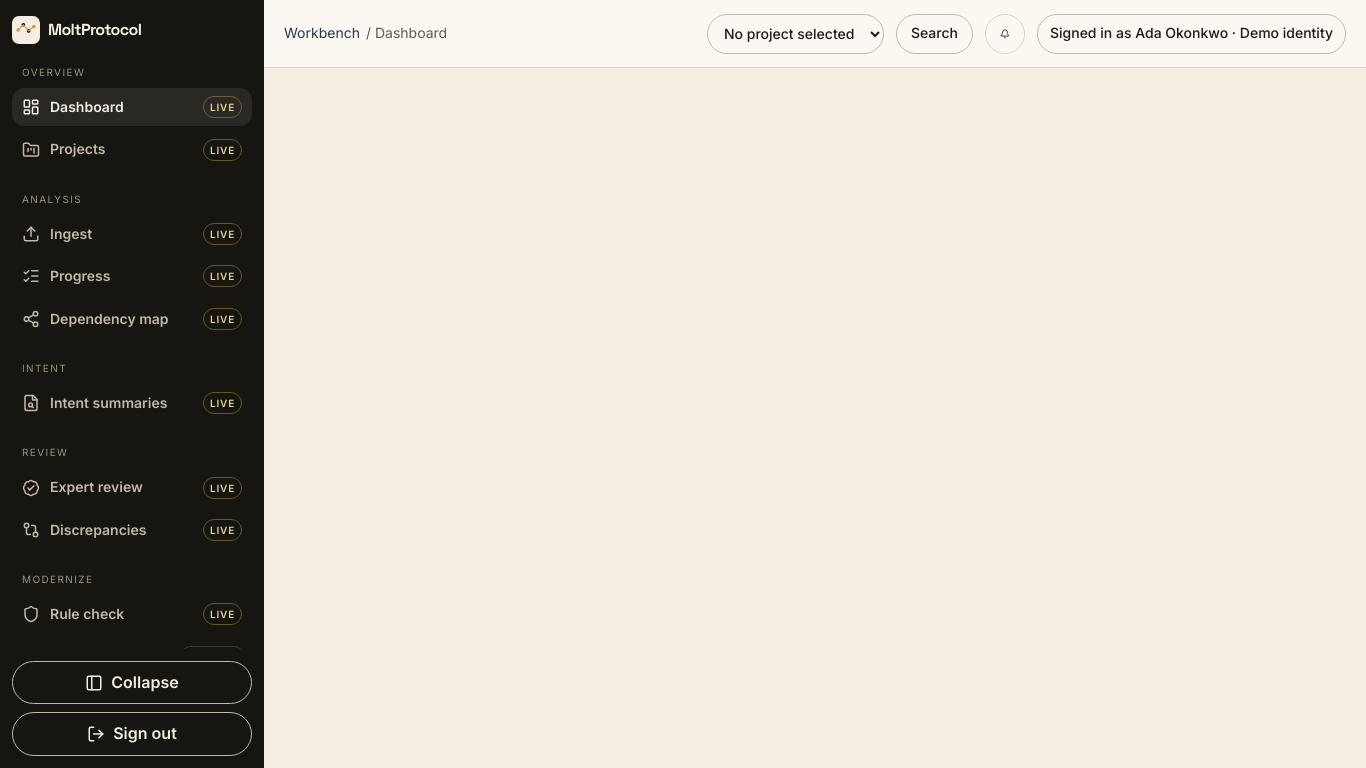
Test: AppShell › aligns header controls and keeps collapse readable
Expected: the text "Signed in as Ada Okonkwo · Demo identity" is shown, [1037,14,1346,54]
Click the button with aria-label "Collapse sidebar". click: (132, 683)
box: [12,661,252,704]
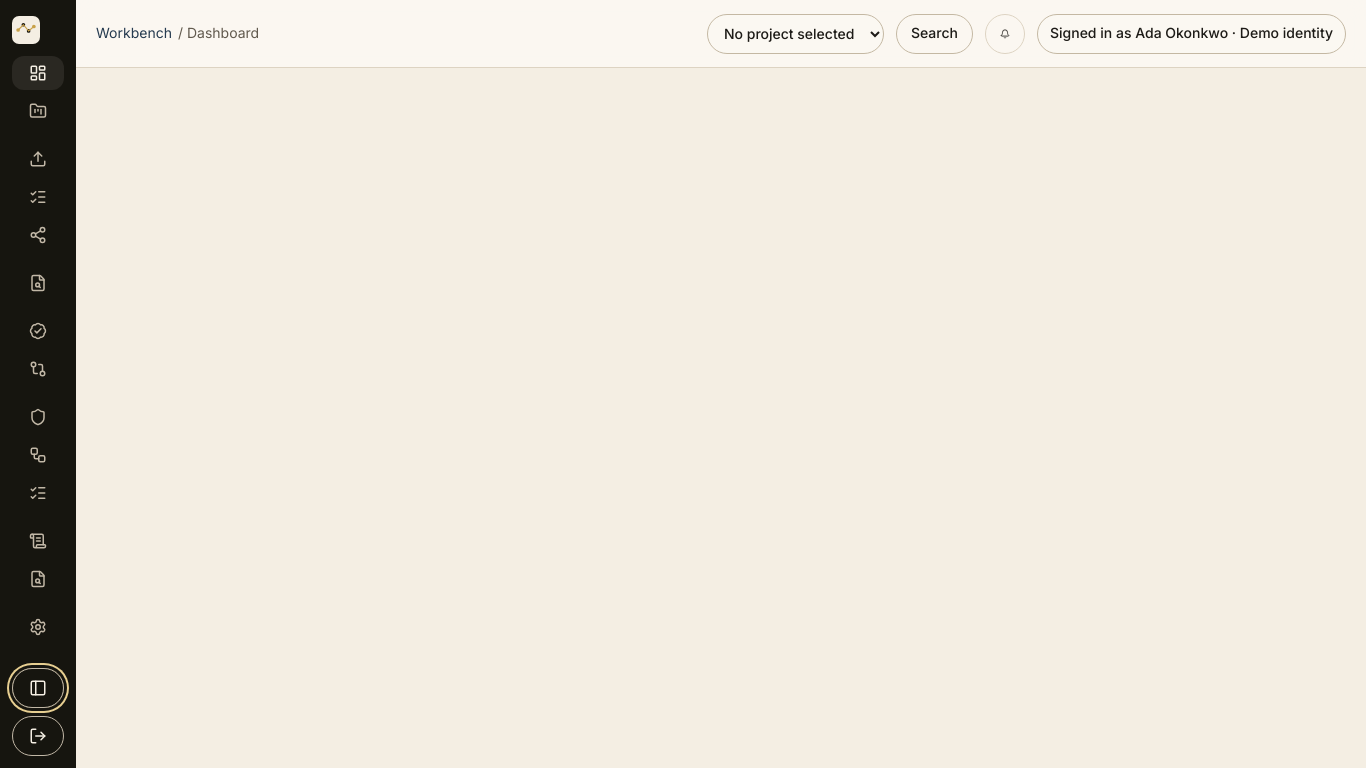
Expected: the link named "Architecture draft" is shown, [12,438,64,472]
Result: the button named "Expand sidebar" is shown at [12,668,64,708]
Result: the link named "Settings" is shown at [12,610,64,644]
